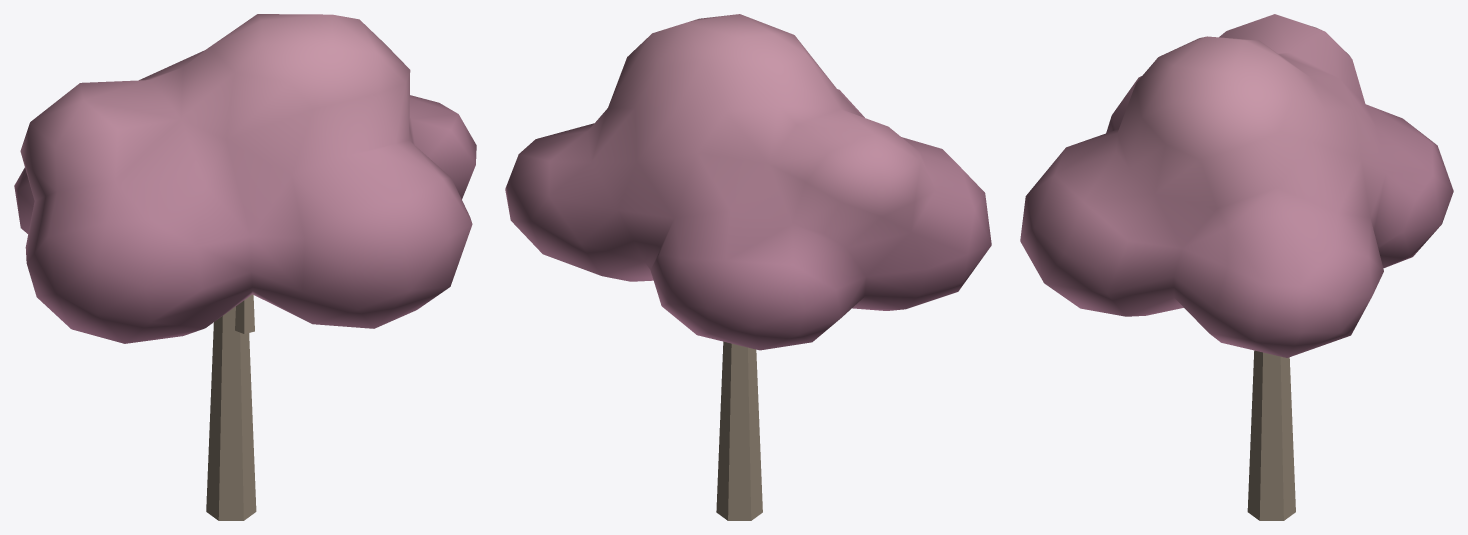
The model's file is island-cherry-crown.glb.
3 views of the same model, side by side, from view 1: azimuth 30°, elevation 25°; view 2: azimuth 150°, elevation 25°; view 3: azimuth 270°, elevation 25° (orthographic). The views are drawn at different scales.
Visible parts, largest first — view 1: island-cherry-crown, trunk.001; view 2: island-cherry-crown, trunk.001; view 3: island-cherry-crown, trunk.001.
Part boxes in pixels (box(x1,y1,x2,y2)): island-cherry-crown: box(14, 14, 476, 343); trunk.001: box(206, 294, 256, 520); island-cherry-crown: box(505, 14, 991, 350); trunk.001: box(716, 341, 762, 520); island-cherry-crown: box(1020, 14, 1453, 357); trunk.001: box(1247, 350, 1295, 520).
Size of the model in its own units: 5.54 by 5.68 by 4.66.
